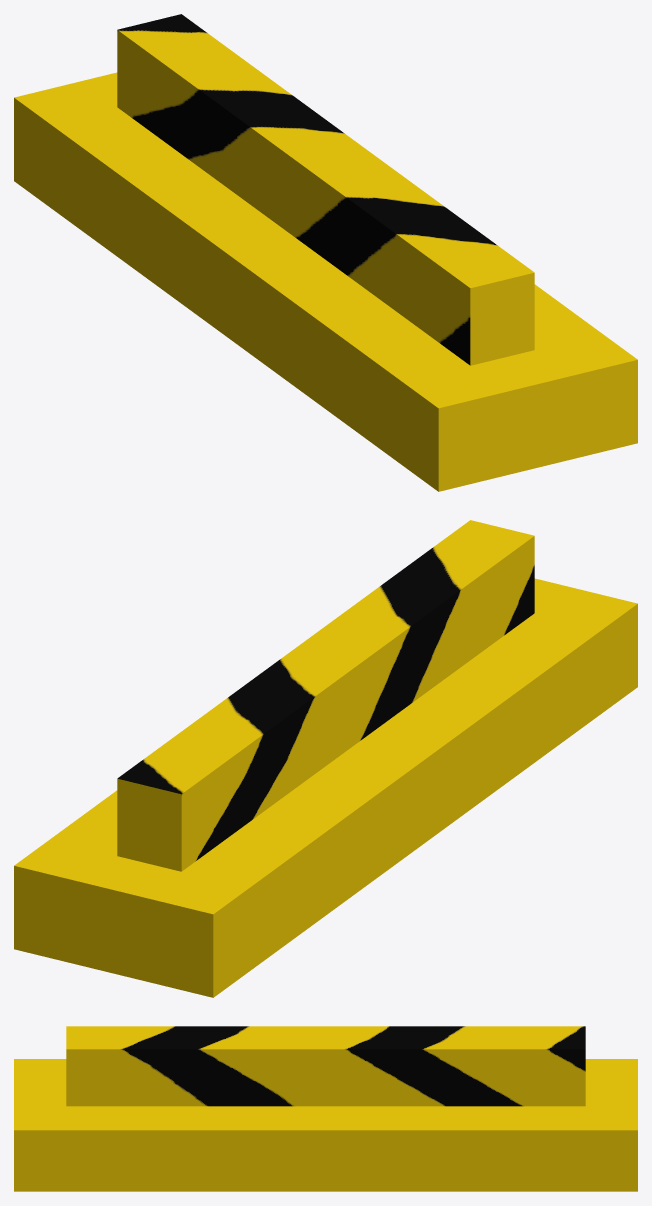
Rendered from Blocks.fbx.
3 renders of one model, top to bottom at view 1: azimuth 30°, elevation 25°; view 2: azimuth 150°, elevation 25°; view 3: azimuth 270°, elevation 25°, orthographic. The views are drawn at different scales.
Parts seen in each view (by area): view 1: Cube; view 2: Cube; view 3: Cube.
Part boxes in pixels (x1,y1,x2,y2): Cube: (14,14,637,491); Cube: (14,520,637,997); Cube: (14,1026,637,1191).
Bounding box in the file's own units: 200 × 154 × 738.
